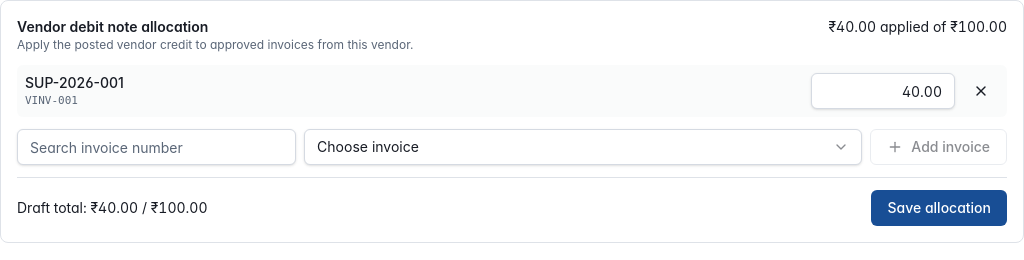
Test case: purchase-return debit allocation › loads current allocations and submits the edited replacement set
This screenshot has width=1024, height=260.
Replace the text in the 1st field with "30.00" at coordinates (883, 91), box x1=811 y1=73 x2=955 y2=109
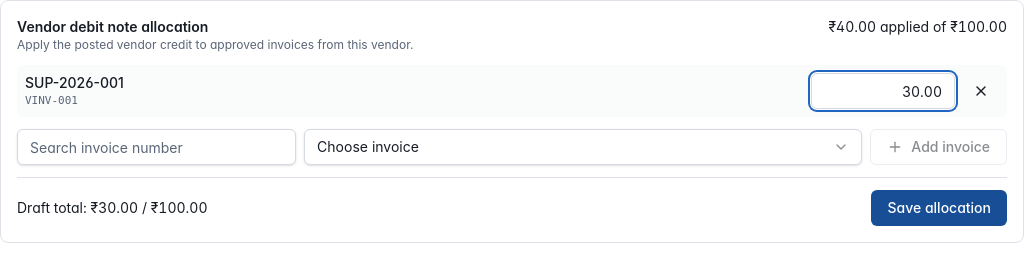
Click the button "Save allocation" at coordinates (939, 208), box x1=872 y1=190 x2=1007 y2=226
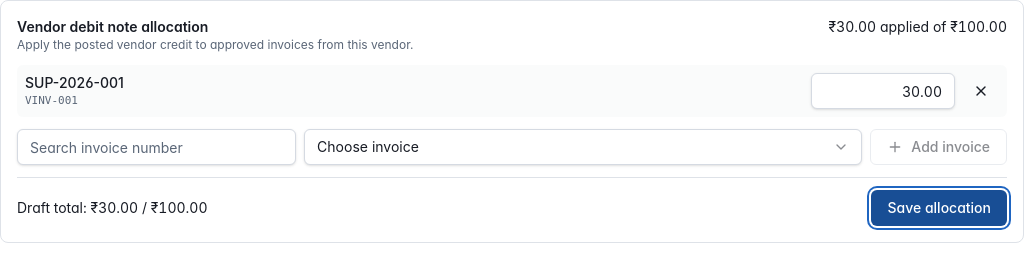
Now the text "₹30.00 applied of ₹100.00" is shown, box x1=828 y1=17 x2=1007 y2=37
